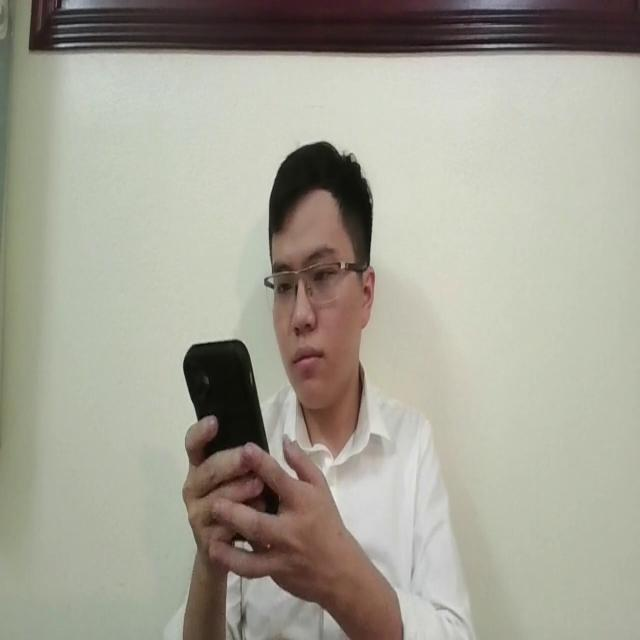phone: (182, 336, 285, 524)
student: (164, 138, 476, 640)
